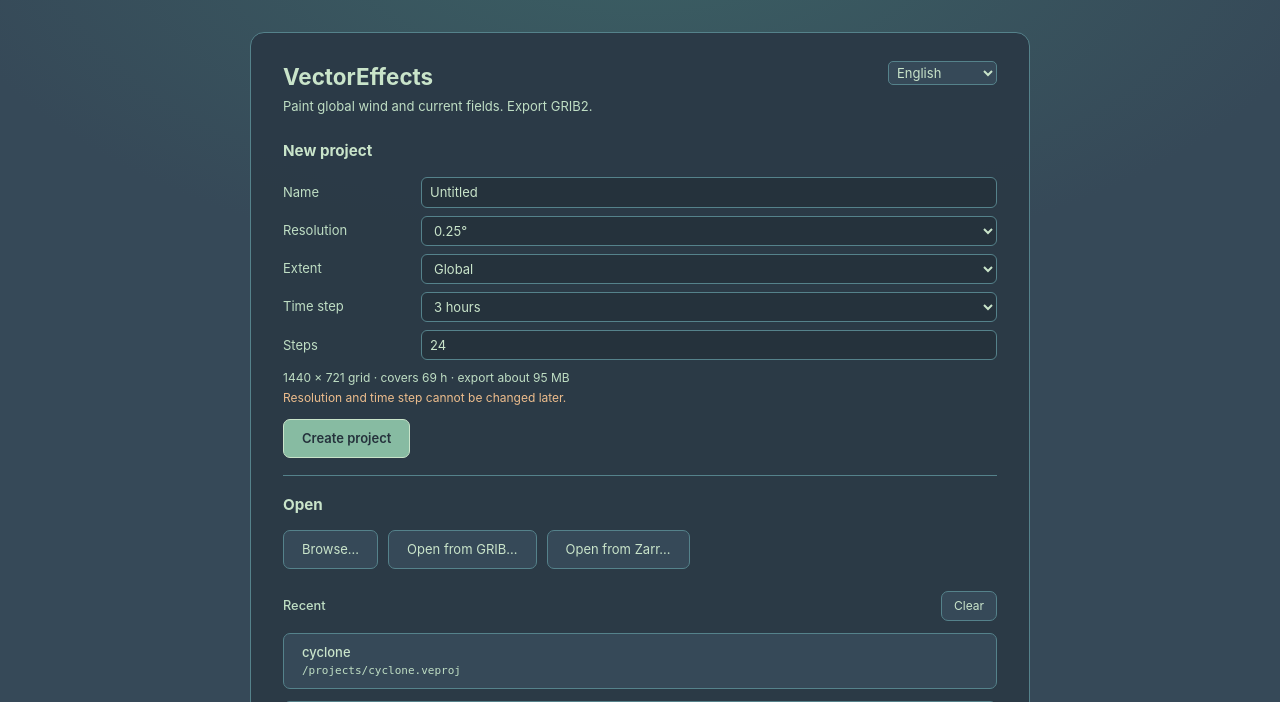
Test: clearing the recent projects list › asks before clearing, and clears nothing while it asks
What coordinates should you click on to do the following:
click the button "Clear"
I would click on:
 (969, 606)
Its box is [941,591,997,620].
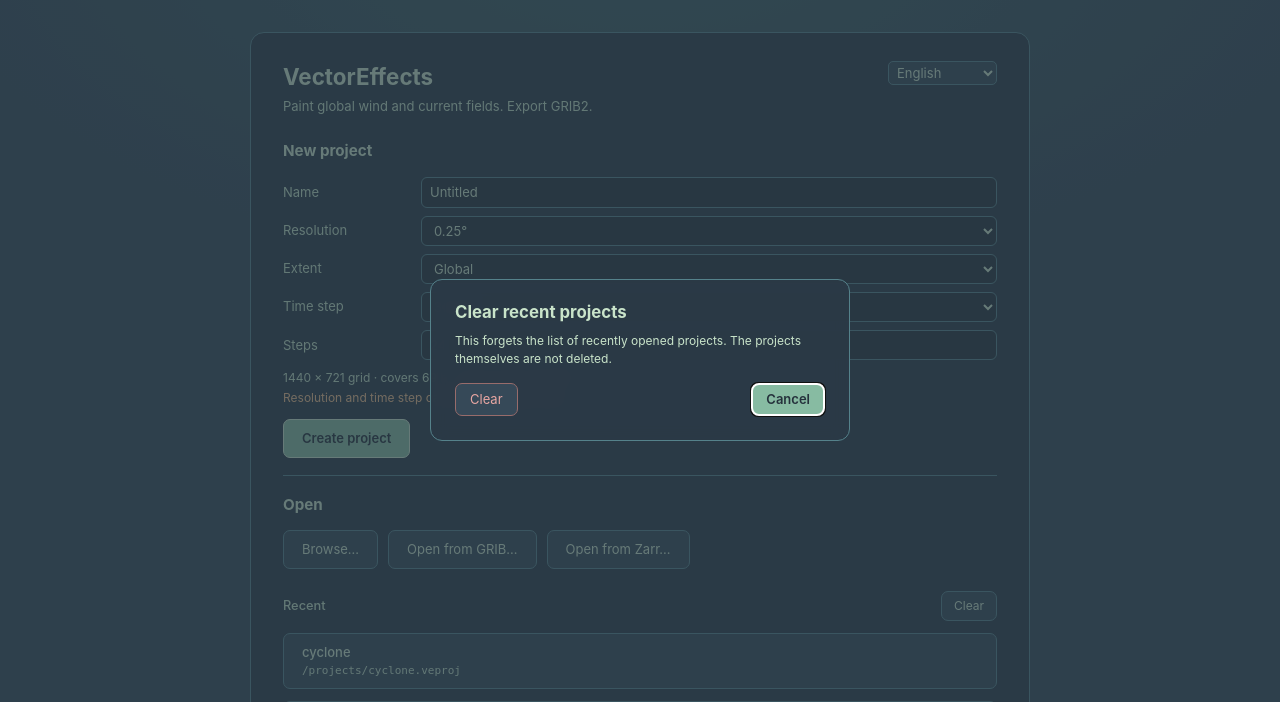
Expected: the text "cyclone" is shown, [302,642,351,661]
Now the text "Clear recent projects" is shown, box [455,302,627,322]
